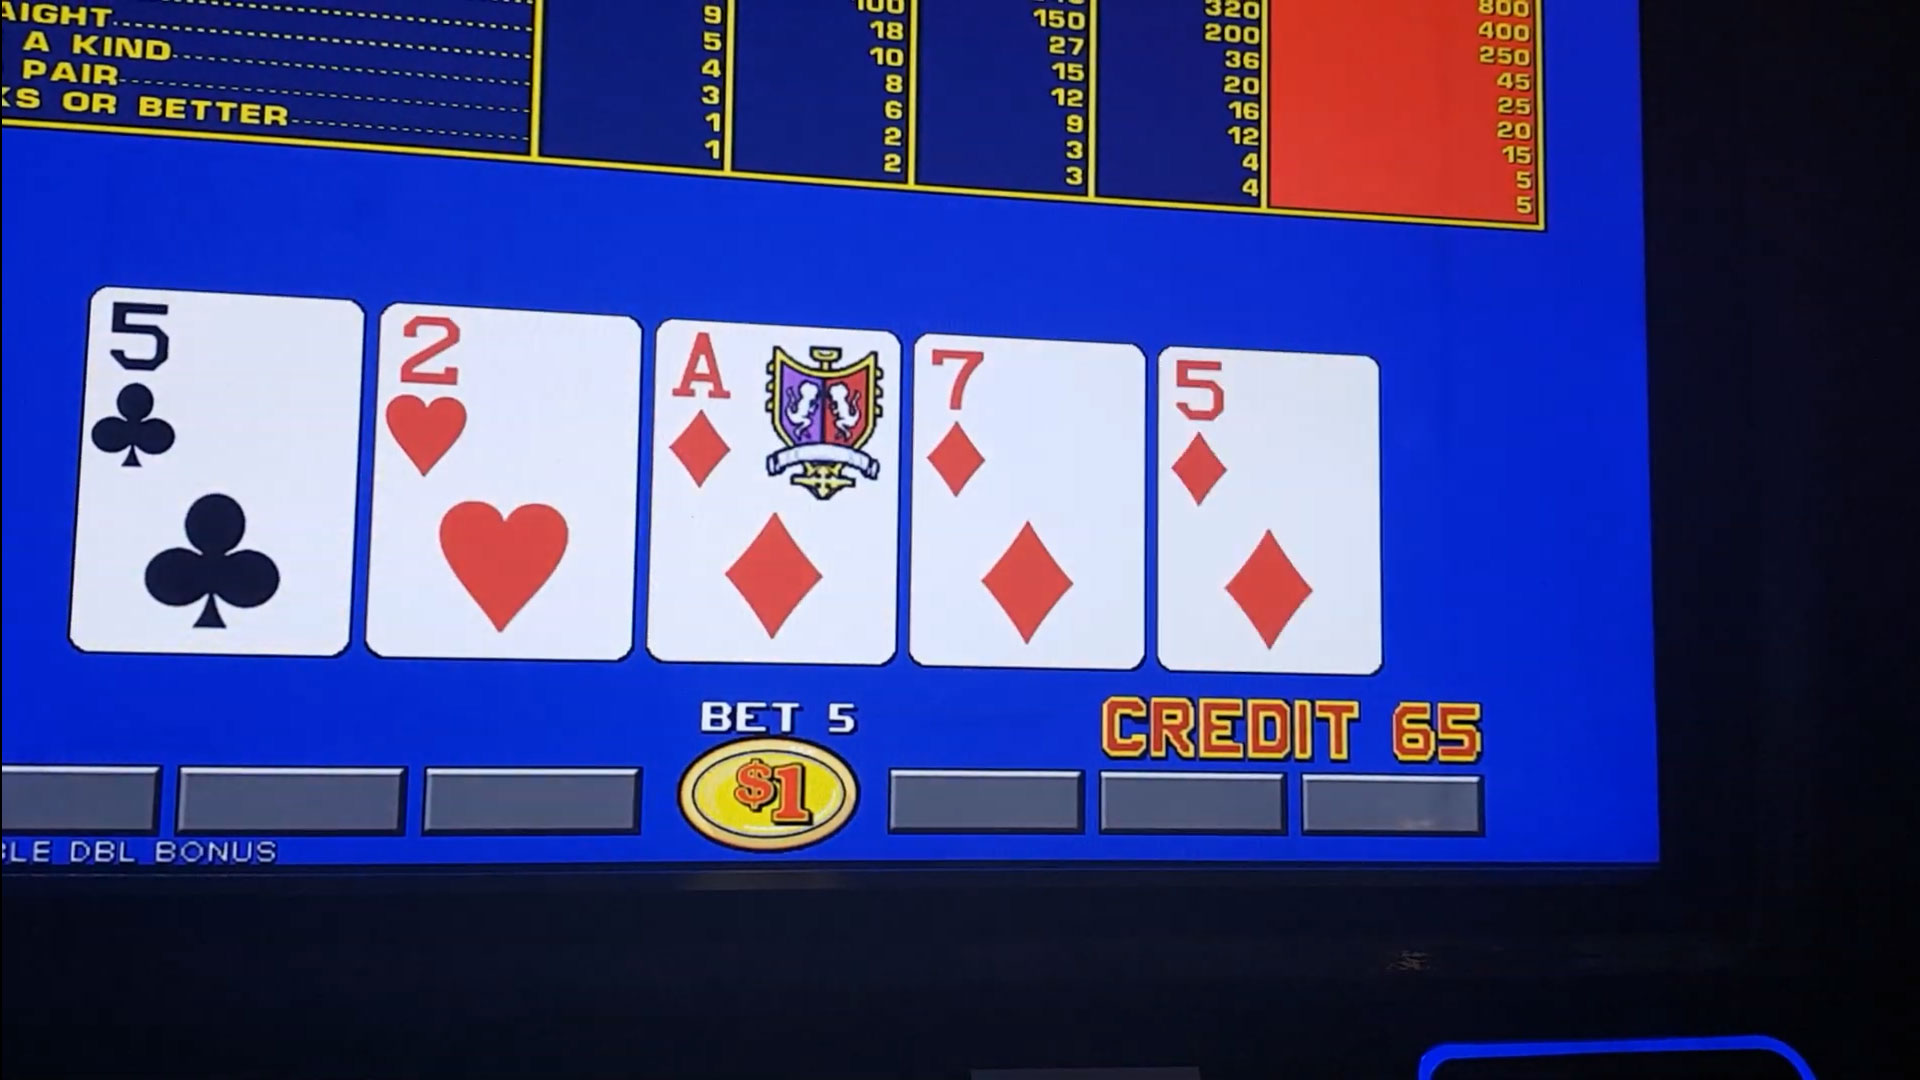C5: (91, 307, 356, 488)
D5: (1162, 357, 1371, 512)
D7: (918, 348, 1141, 516)
DA: (659, 334, 897, 510)
H2: (385, 319, 633, 496)
